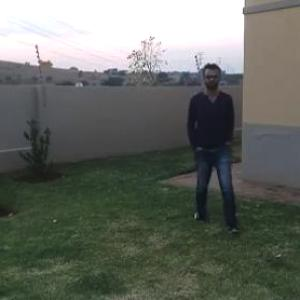follow: (186, 59, 240, 222)
